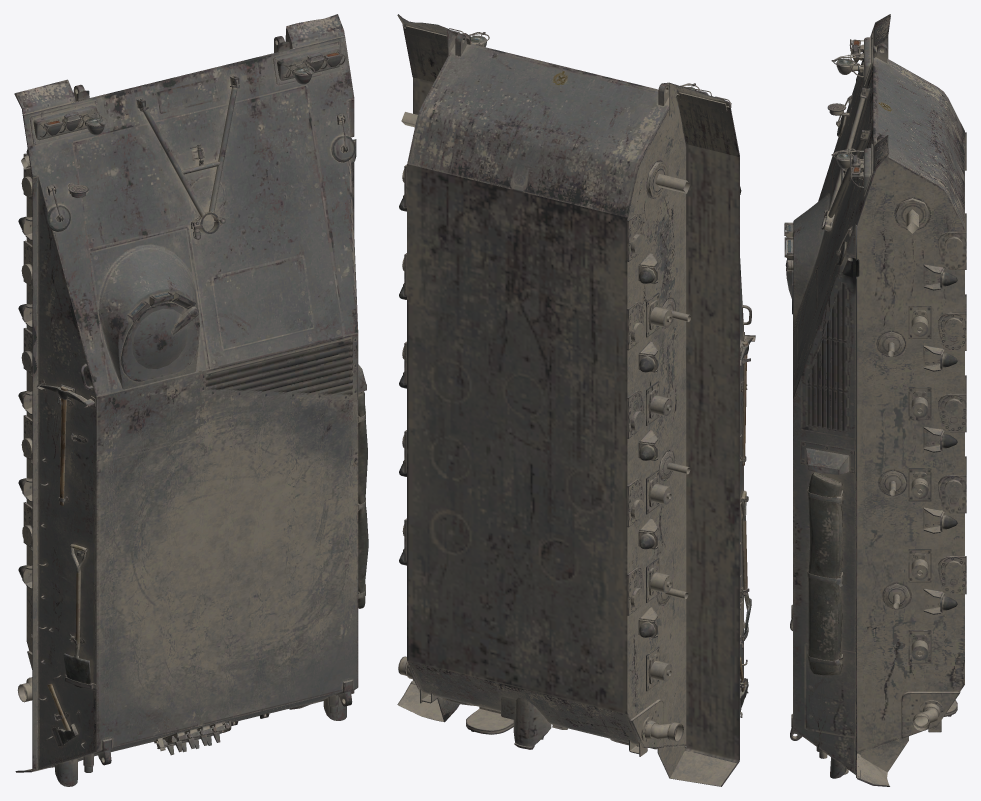
File: Hull.glb
The picture shows the model from 3 angles, left to right: view 1: azimuth 30°, elevation 25°; view 2: azimuth 150°, elevation 25°; view 3: azimuth 270°, elevation 25°; orthographic projection. The views are drawn at different scales.
Parts seen in each view (by area): view 1: set_0_group_0; view 2: set_0_group_0; view 3: set_0_group_0.
Part boxes in pixels (x1,y1,x2,y2): set_0_group_0: [14, 14, 368, 786]; set_0_group_0: [397, 14, 755, 786]; set_0_group_0: [784, 14, 966, 786].
Bounding box in the file's own units: 2.3 × 4.69 × 1.21.
Materials: 1 (1 with a texture image).
